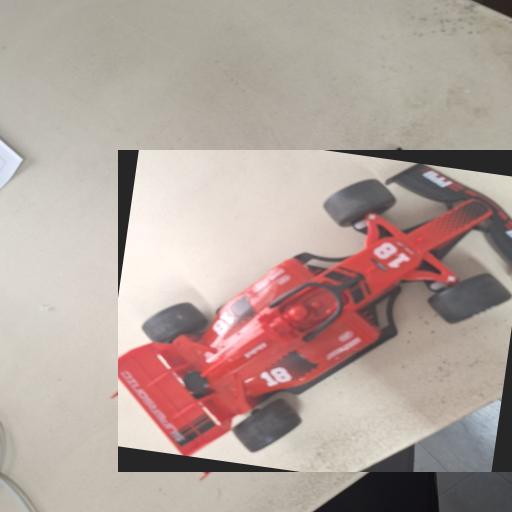carro: (119, 150, 511, 472)
